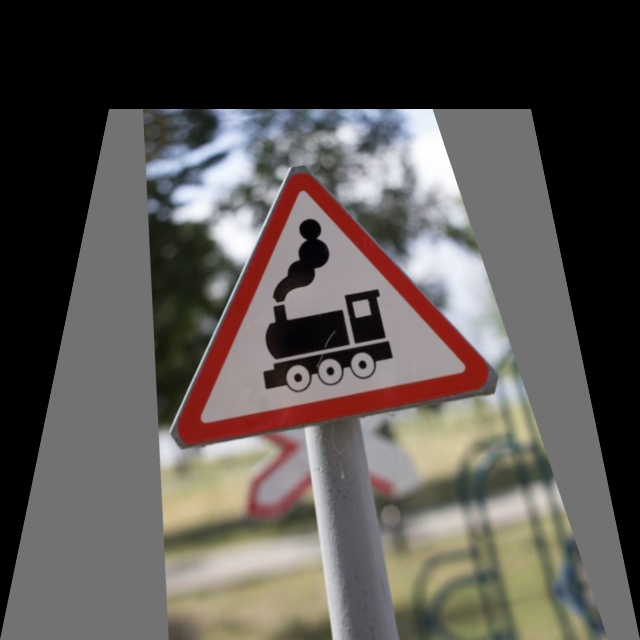Unguarded_Level_Crossing: (132, 142, 502, 453)
